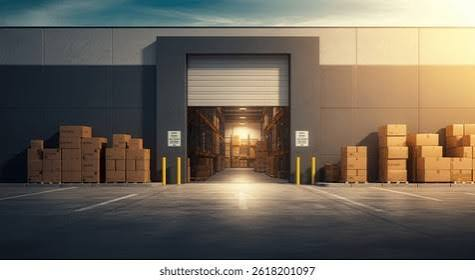box: (417, 157, 450, 169), (417, 169, 450, 181), (59, 125, 91, 137), (408, 133, 439, 145), (81, 137, 107, 151), (379, 146, 408, 158), (412, 146, 442, 157), (380, 169, 406, 181), (340, 169, 366, 181), (378, 124, 406, 135), (342, 146, 366, 158), (448, 146, 472, 158), (324, 163, 340, 181), (378, 136, 406, 146), (127, 170, 150, 182), (379, 159, 406, 169), (342, 158, 366, 169), (112, 134, 130, 148), (450, 157, 471, 169), (42, 159, 61, 172), (59, 137, 81, 148), (452, 169, 472, 181), (61, 170, 81, 182), (61, 149, 81, 161), (61, 159, 81, 171), (126, 149, 149, 159), (106, 170, 125, 182), (81, 170, 100, 182), (446, 136, 464, 148), (106, 148, 125, 159), (82, 149, 102, 159), (445, 124, 463, 135), (42, 171, 60, 182), (43, 148, 60, 159), (27, 148, 42, 160), (28, 160, 42, 172), (128, 138, 142, 148), (28, 172, 42, 182), (30, 139, 43, 149), (462, 135, 474, 145), (464, 124, 474, 134), (105, 160, 115, 170), (115, 160, 125, 170), (256, 141, 266, 151), (127, 160, 136, 171), (232, 135, 241, 145), (231, 146, 239, 156)
